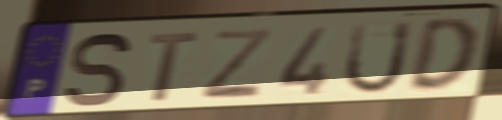4: (276, 24, 332, 98)
D: (404, 15, 480, 96)
S: (62, 30, 135, 111)
T: (147, 29, 202, 104)
U: (340, 18, 416, 97)
Z: (197, 27, 274, 102)
